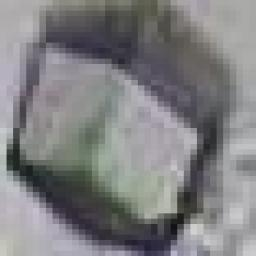crystals: (11, 23, 218, 251)
